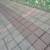zebra: (12, 1, 50, 27)
